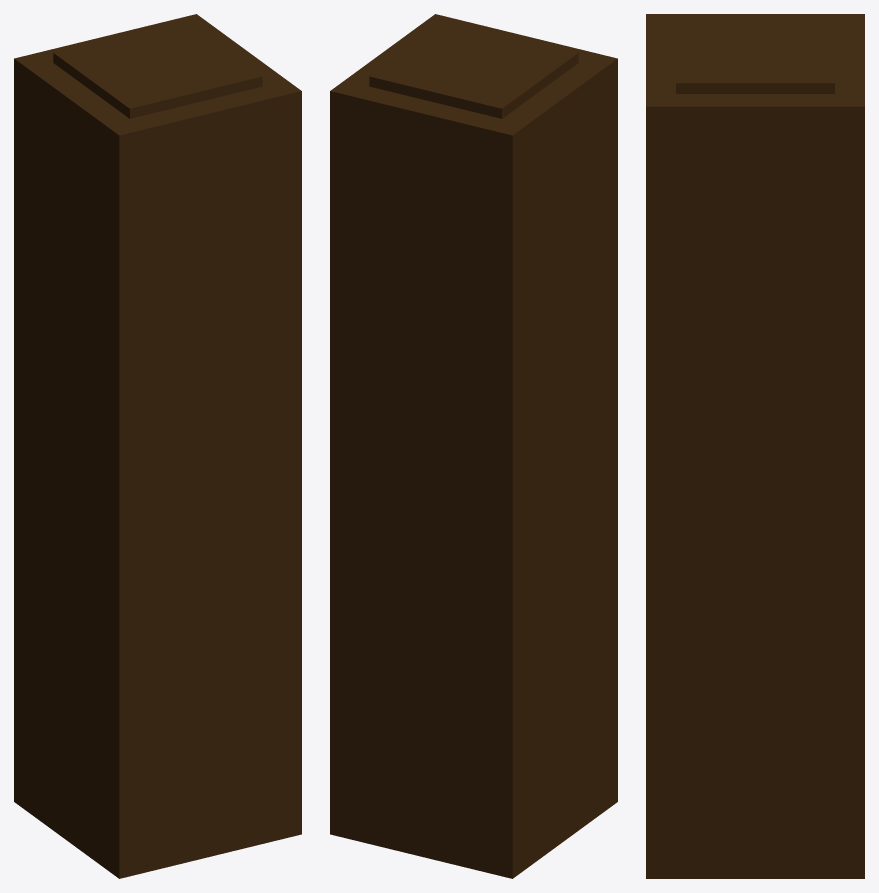
Rendered from Fence_04.fbx.
3 renders of one model, left to right at view 1: azimuth 30°, elevation 25°; view 2: azimuth 150°, elevation 25°; view 3: azimuth 270°, elevation 25°, orthographic. The views are drawn at different scales.
Parts seen in each view (by area): view 1: Cube; view 2: Cube; view 3: Cube.
Boxes of the visible parts, x1,y1,x2,y2 form: Cube: (14, 14, 301, 878); Cube: (330, 14, 617, 878); Cube: (646, 14, 864, 878).
Size of the model in its own units: 30 by 118 by 29.97.
